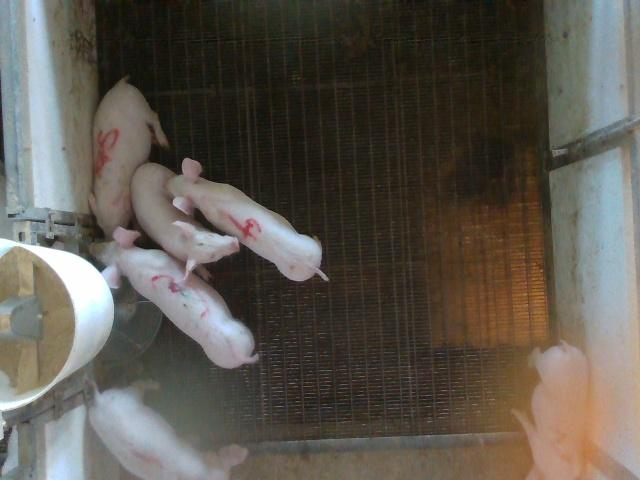pig-1: (89, 388, 209, 479)
pig-2: (512, 342, 589, 479)
pig-3: (90, 226, 259, 368)
pig-4: (168, 158, 328, 281)
pig-5: (89, 78, 169, 239)
